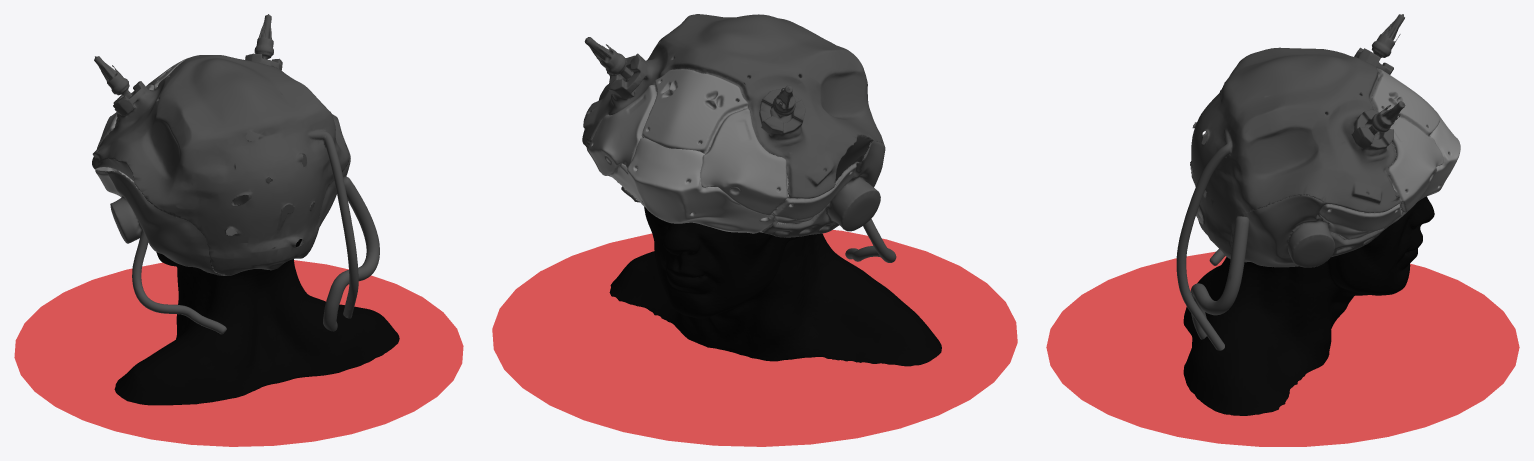
The model's file is cyberpunk.glb.
3 renders of one model, left to right at view 1: azimuth 30°, elevation 25°; view 2: azimuth 150°, elevation 25°; view 3: azimuth 270°, elevation 25°, orthographic. The views are drawn at different scales.
Parts seen in each view (by area): view 1: cith scape houses.004_4, Circle_6, cith scape houses.003_3, cith scape houses.005_5, cith scape houses_0; view 2: Circle_6, cith scape houses.003_3, cith scape houses.004_4, cith scape houses_0, cith scape houses.001_1, cith scape houses.005_5, cith scape houses.002_2; view 3: Circle_6, cith scape houses.004_4, cith scape houses.003_3, cith scape houses.005_5, cith scape houses_0, cith scape houses.002_2, cith scape houses.001_1.
Boxes of the visible parts, x1,y1,x2,y2 form: cith scape houses.004_4: [92, 14, 379, 334]; Circle_6: [14, 260, 463, 446]; cith scape houses.003_3: [114, 196, 399, 405]; cith scape houses.005_5: [107, 117, 350, 275]; cith scape houses_0: [96, 58, 188, 240]; Circle_6: [492, 230, 1017, 446]; cith scape houses.003_3: [609, 206, 941, 366]; cith scape houses.004_4: [582, 14, 896, 262]; cith scape houses_0: [588, 69, 789, 215]; cith scape houses.001_1: [610, 138, 776, 233]; cith scape houses.005_5: [604, 88, 885, 237]; cith scape houses.002_2: [586, 147, 857, 224]; Circle_6: [1046, 251, 1519, 446]; cith scape houses.004_4: [1176, 14, 1405, 350]; cith scape houses.003_3: [1183, 196, 1434, 415]; cith scape houses.005_5: [1228, 194, 1383, 267]; cith scape houses_0: [1371, 68, 1443, 212]; cith scape houses.002_2: [1319, 203, 1404, 239]; cith scape houses.001_1: [1383, 117, 1460, 230].
Bounding box in the file's own units: 2.05 × 1.39 × 2.06.
